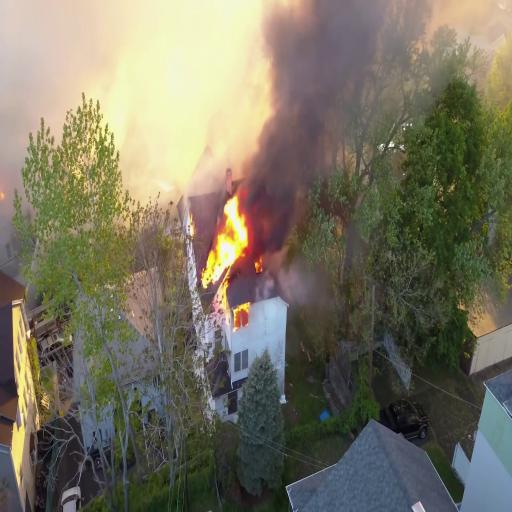fire: (204, 189, 254, 278)
smoke: (261, 2, 319, 200), (268, 11, 356, 89)
